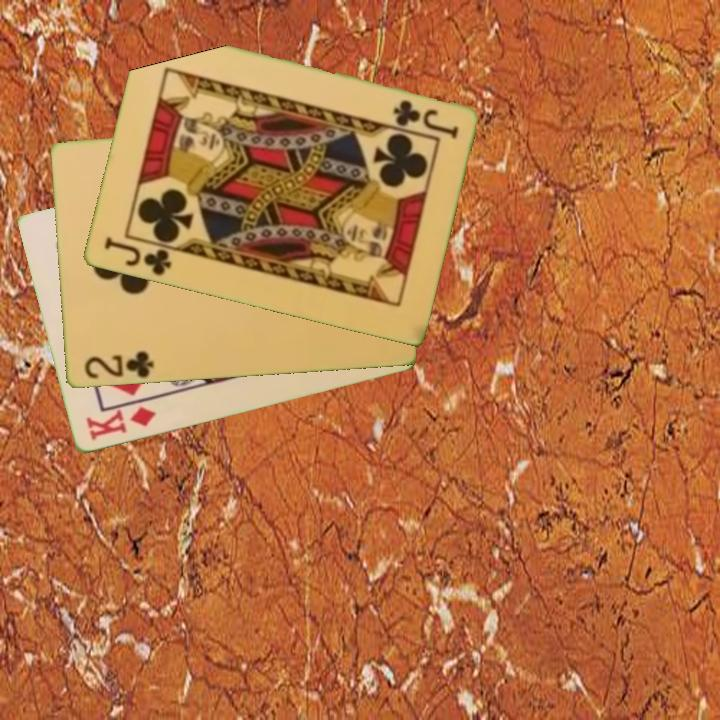2c: (80, 347, 157, 383)
Jc: (100, 234, 180, 279), (389, 96, 461, 141)
Kd: (82, 403, 159, 445)
